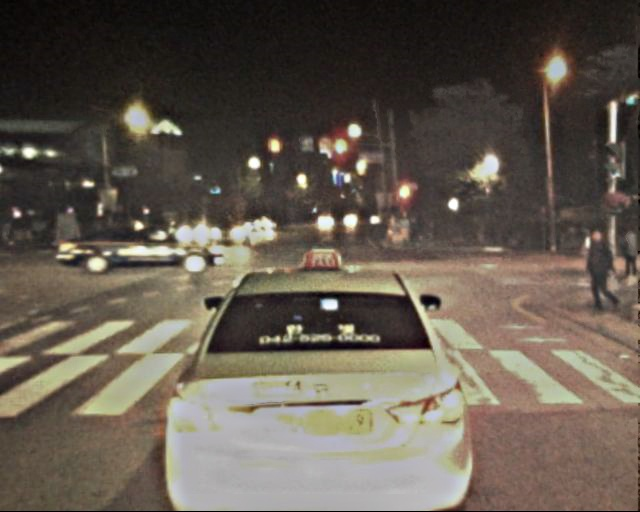person: (581, 225, 616, 311), (617, 222, 640, 277), (408, 216, 439, 245), (577, 227, 596, 274), (3, 211, 23, 248)
